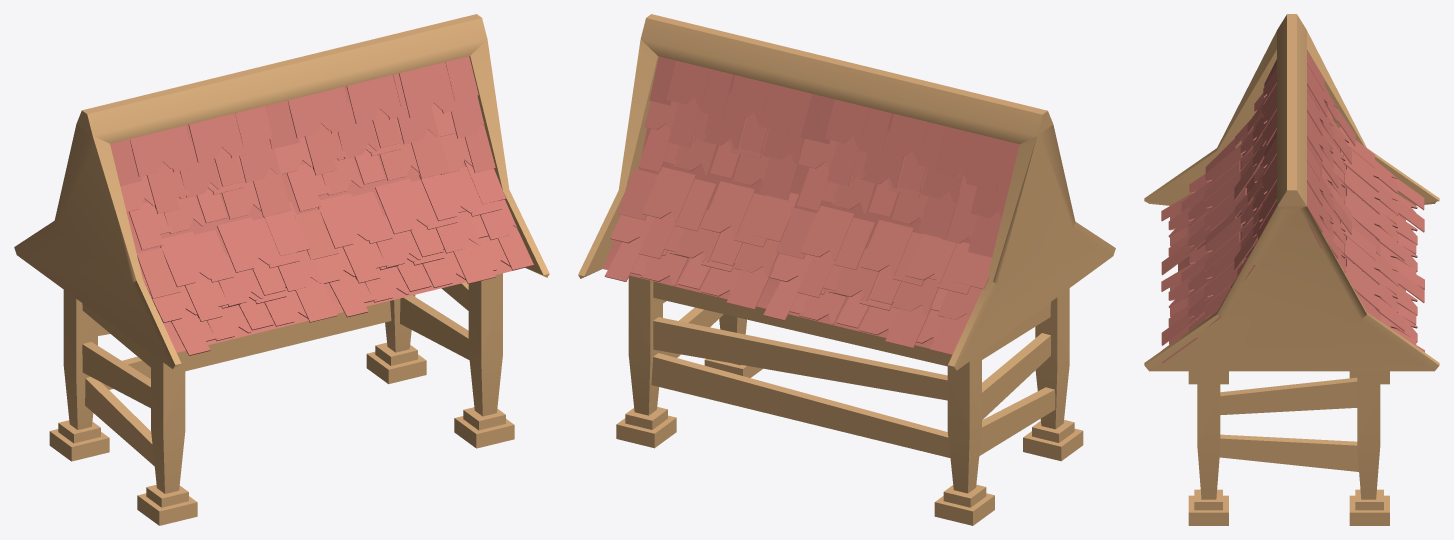
Rendered from house2.fbx.
The picture shows the model from 3 angles, left to right: view 1: azimuth 30°, elevation 25°; view 2: azimuth 150°, elevation 25°; view 3: azimuth 270°, elevation 25°; orthographic projection. The views are drawn at different scales.
Parts seen in each view (by area): view 1: pCube139; view 2: pCube139; view 3: pCube139.
Part boxes in pixels (<box>): pCube139: <box>14,14,549,525</box>; pCube139: <box>578,14,1115,525</box>; pCube139: <box>1144,14,1439,525</box>.
Bounding box in the file's own units: 83.73 × 76.35 × 59.19.
